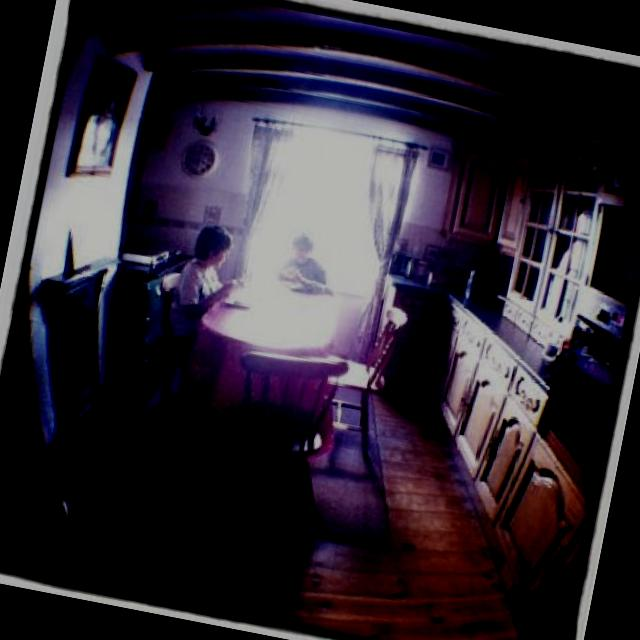Person: (162, 218, 260, 364), (270, 230, 344, 298)
